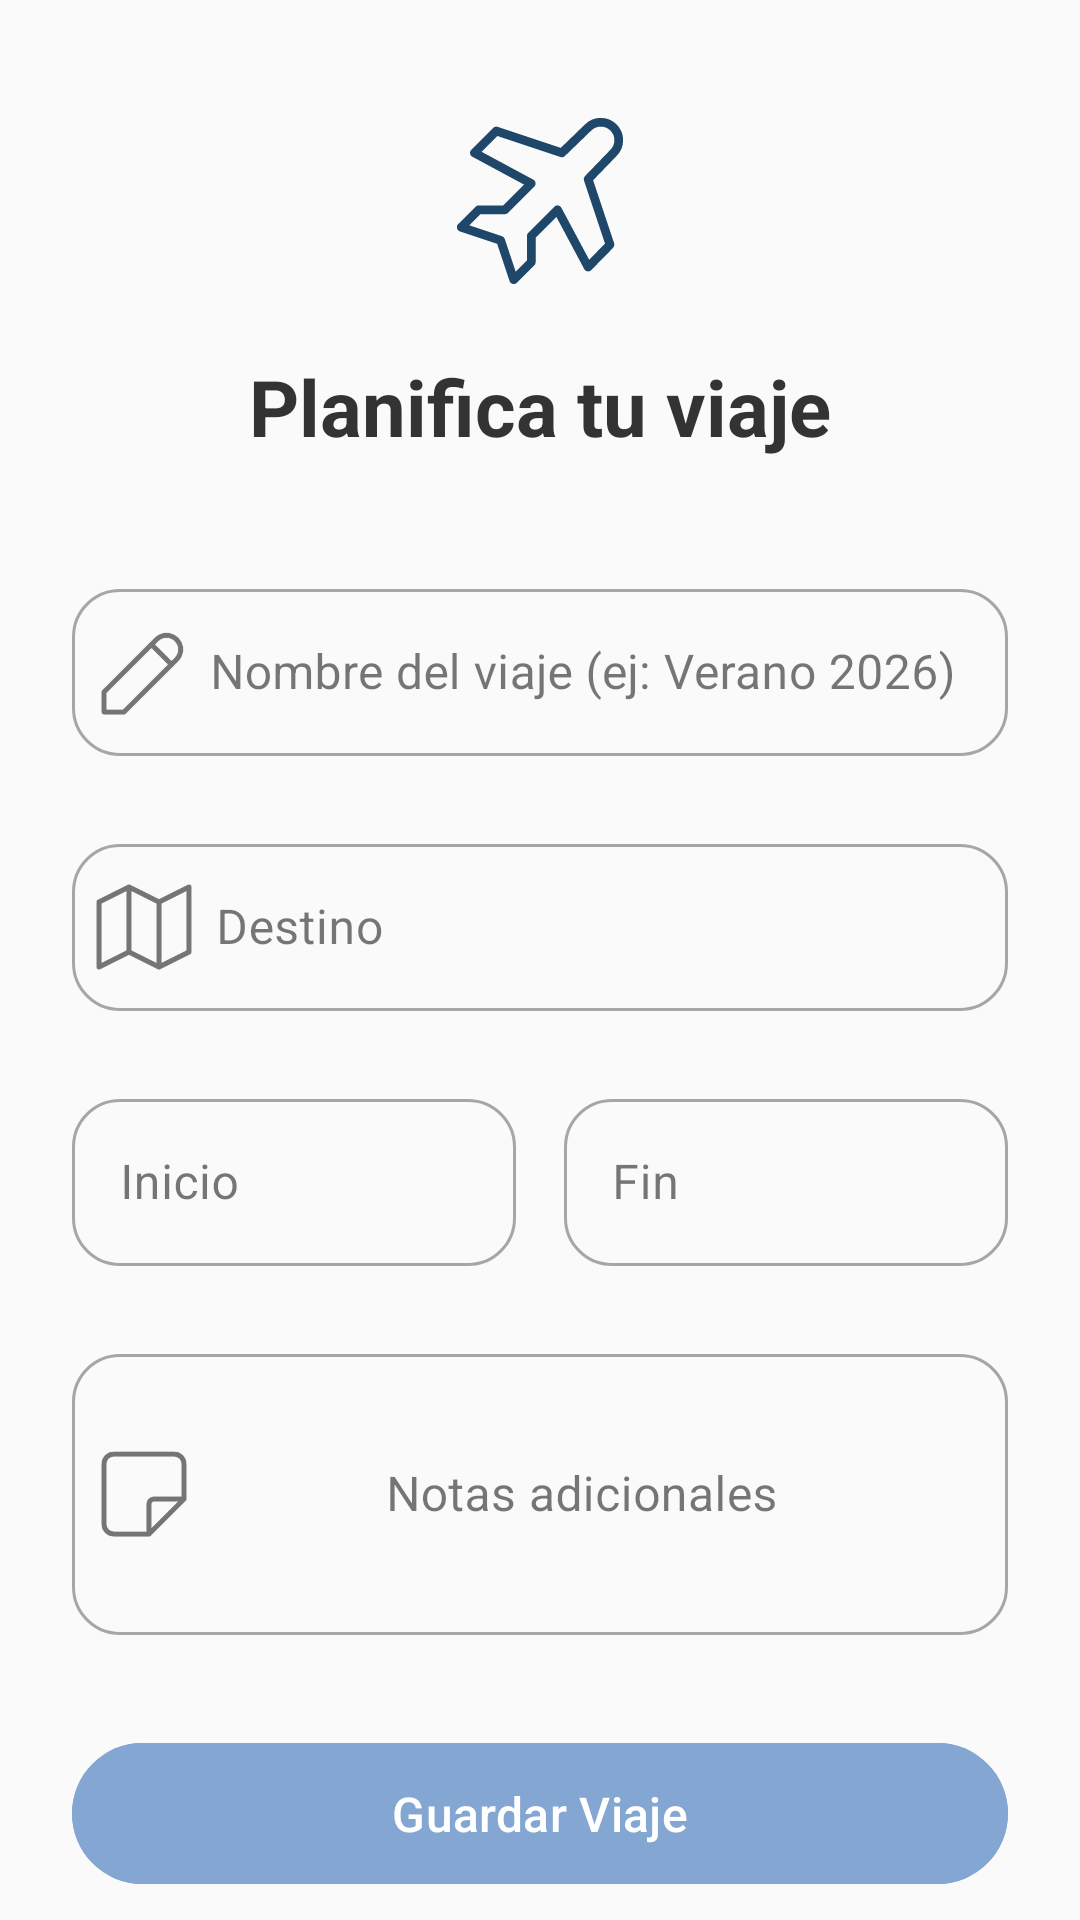

Point at icon controls on the screen. Image size 1080x1920, points as (x,y).
plane: (540,201)
